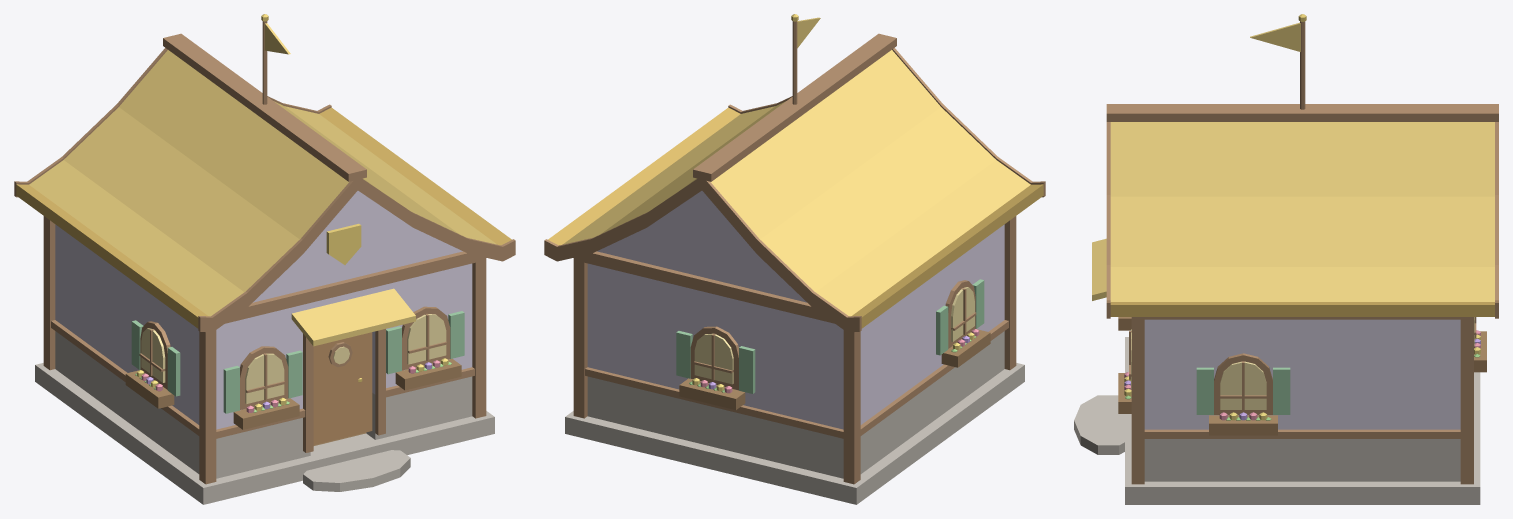
File: hall.glb
3 renders of one model, left to right at view 1: azimuth 30°, elevation 25°; view 2: azimuth 150°, elevation 25°; view 3: azimuth 270°, elevation 25°, orthographic. The views are drawn at different scales.
Parts seen in each view (by area): view 1: Player; view 2: Player; view 3: Player.
Part boxes in pixels (x1=…): Player: x1=14, y1=14, x2=515, y2=504; Player: x1=544, y1=14, x2=1045, y2=504; Player: x1=1074, y1=14, x2=1498, y2=504.
Size of the model in its own units: 5.84 by 6.97 by 6.45.
